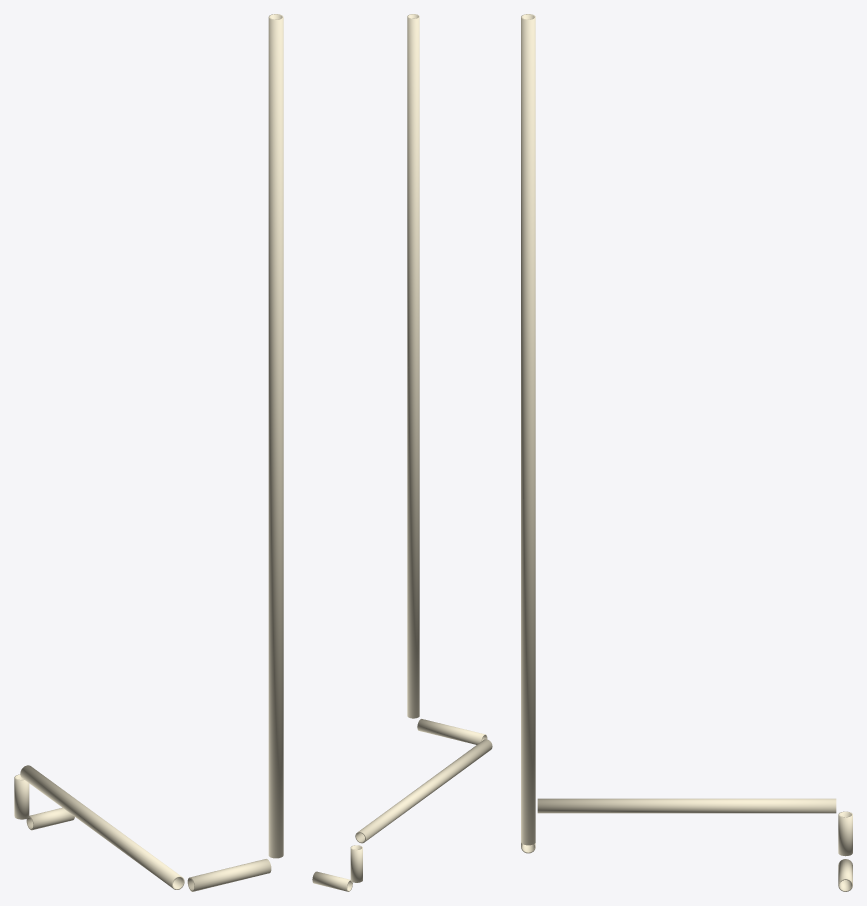
Rendered from pipes_supply__softener-yes_and_plumbing-cpvc_and_water-well.glb.
The picture shows the model from 3 angles, left to right: view 1: azimuth 30°, elevation 25°; view 2: azimuth 150°, elevation 25°; view 3: azimuth 270°, elevation 25°; orthographic projection. The views are drawn at different scales.
Visible parts, largest first — view 1: pipe_supply_softener_feed.901; view 2: pipe_supply_softener_feed.901; view 3: pipe_supply_softener_feed.901.
Boxes of the visible parts, left/top/right/bottom form: pipe_supply_softener_feed.901: left=14, top=14, right=283, bottom=891; pipe_supply_softener_feed.901: left=312, top=14, right=492, bottom=891; pipe_supply_softener_feed.901: left=521, top=14, right=852, bottom=891.
Bounding box in the file's own units: 0.1821 × 1.5 × 0.5022.
